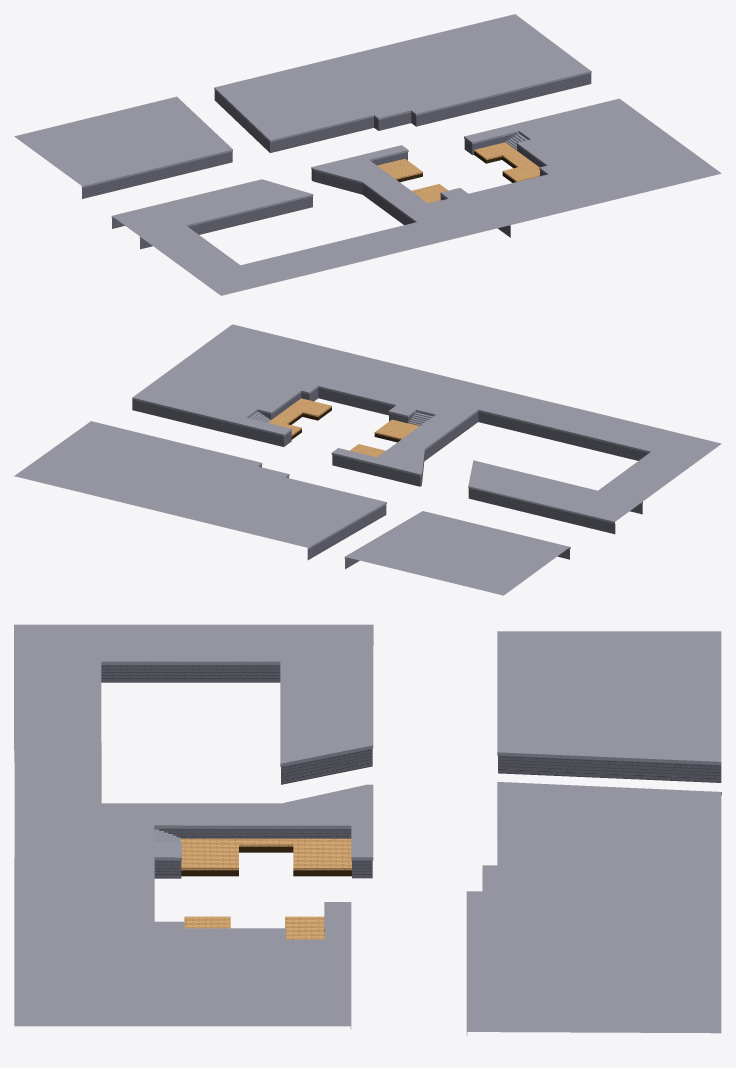
The model's file is Fixed_TerrainL1.fbx.
3 renders of one model, top to bottom at view 1: azimuth 30°, elevation 25°; view 2: azimuth 150°, elevation 25°; view 3: azimuth 270°, elevation 25°, orthographic. The views are drawn at different scales.
Parts seen in each view (by area): view 1: Shipyard; view 2: Shipyard; view 3: Shipyard.
Part boxes in pixels (left/top/right/bottom): Shipyard: left=14, top=14, right=721, bottom=295; Shipyard: left=14, top=324, right=721, bottom=595; Shipyard: left=14, top=624, right=721, bottom=1035.
Size of the model in its own units: 315632 by 7690 by 231062.
6 materials, 4 textured.
